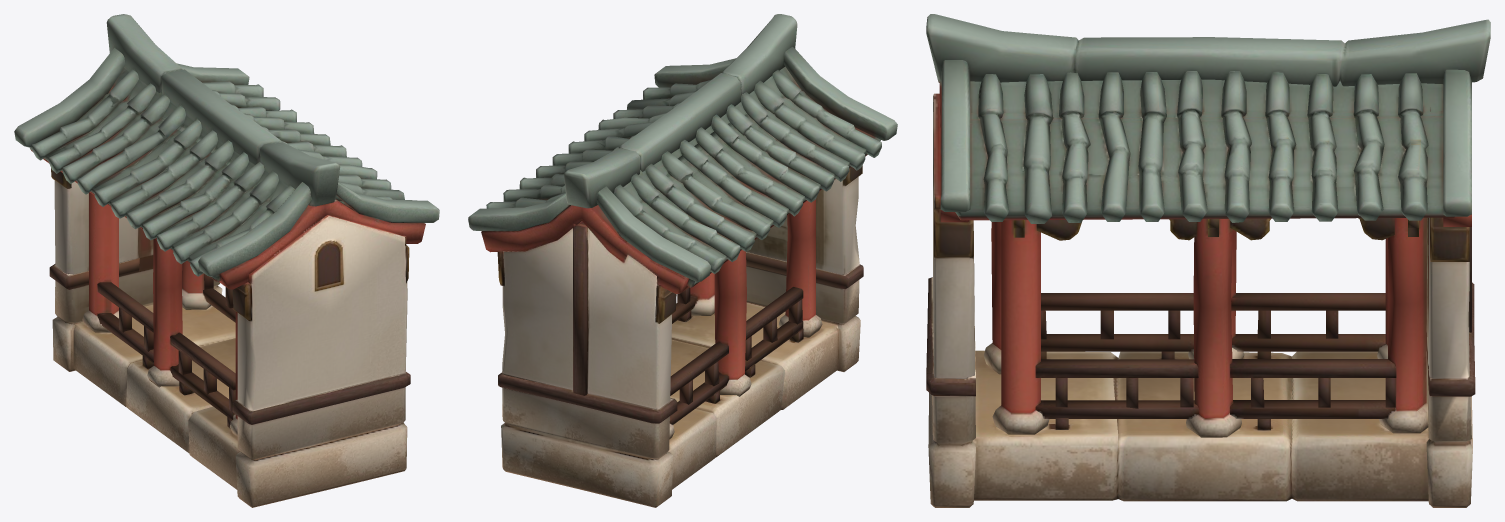
Rendered from tripo_convert_eb2bb99c-4d01-43cc-857c-ebf0a721935e.fbx.
3 renders of one model, left to right at view 1: azimuth 30°, elevation 25°; view 2: azimuth 150°, elevation 25°; view 3: azimuth 270°, elevation 25°, orthographic. The views are drawn at different scales.
Parts seen in each view (by area): view 1: tripo_node_eb2bb99c; view 2: tripo_node_eb2bb99c; view 3: tripo_node_eb2bb99c.
Boxes of the visible parts, box(x1,y1,x2,y2) form: tripo_node_eb2bb99c: box(14, 14, 439, 507); tripo_node_eb2bb99c: box(468, 14, 897, 507); tripo_node_eb2bb99c: box(926, 14, 1490, 507).
Bounding box in the file's own units: 0.6387 × 0.8535 × 0.998.
Materials: 1 (1 with a texture image).
